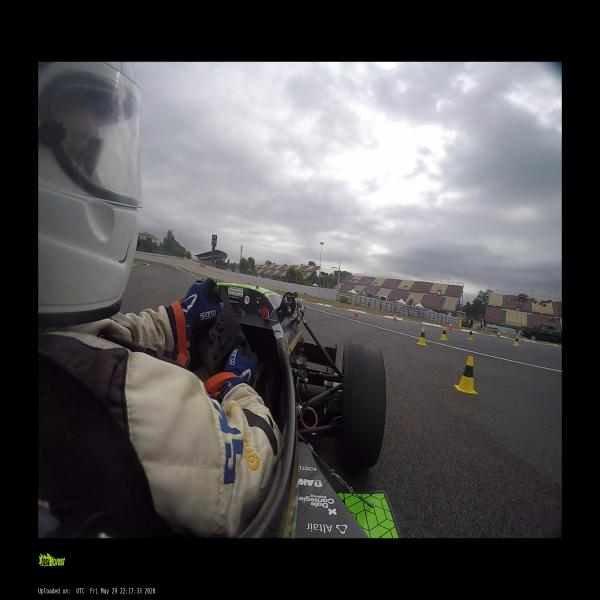orange_cone: (355, 308, 358, 318), (496, 331, 500, 338), (394, 313, 396, 322), (448, 324, 451, 329)
yellow_cone: (454, 357, 478, 396), (416, 328, 426, 346), (438, 327, 448, 342), (512, 336, 519, 348), (466, 329, 473, 341)
